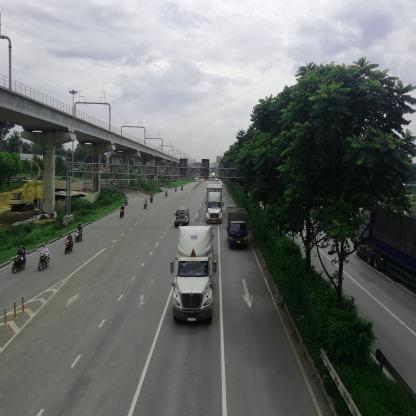car: (177, 207, 189, 226)
container: (360, 209, 416, 285), (178, 228, 214, 326), (207, 183, 223, 224)
motorbike: (12, 248, 29, 275), (38, 244, 51, 274), (65, 235, 73, 255), (119, 206, 126, 226), (76, 223, 83, 242), (150, 194, 157, 205), (144, 199, 148, 211), (164, 192, 169, 198), (125, 198, 129, 204), (175, 187, 177, 194), (182, 185, 184, 192)
truck: (227, 208, 250, 252)
